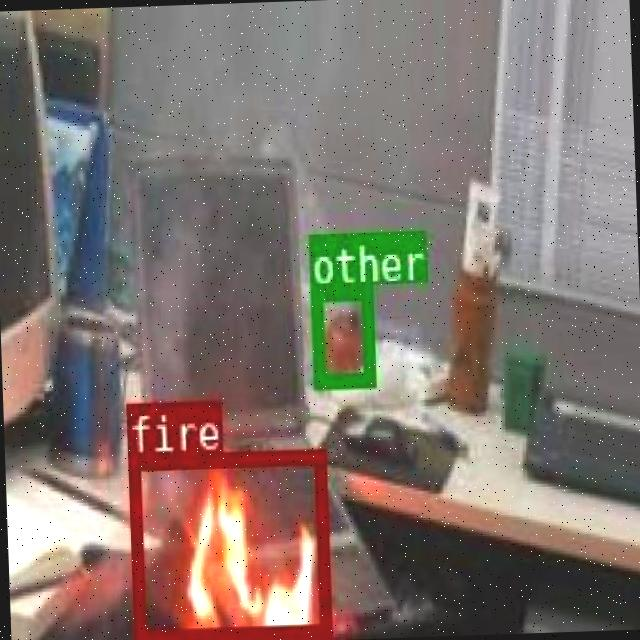fire: (125, 447, 328, 640)
